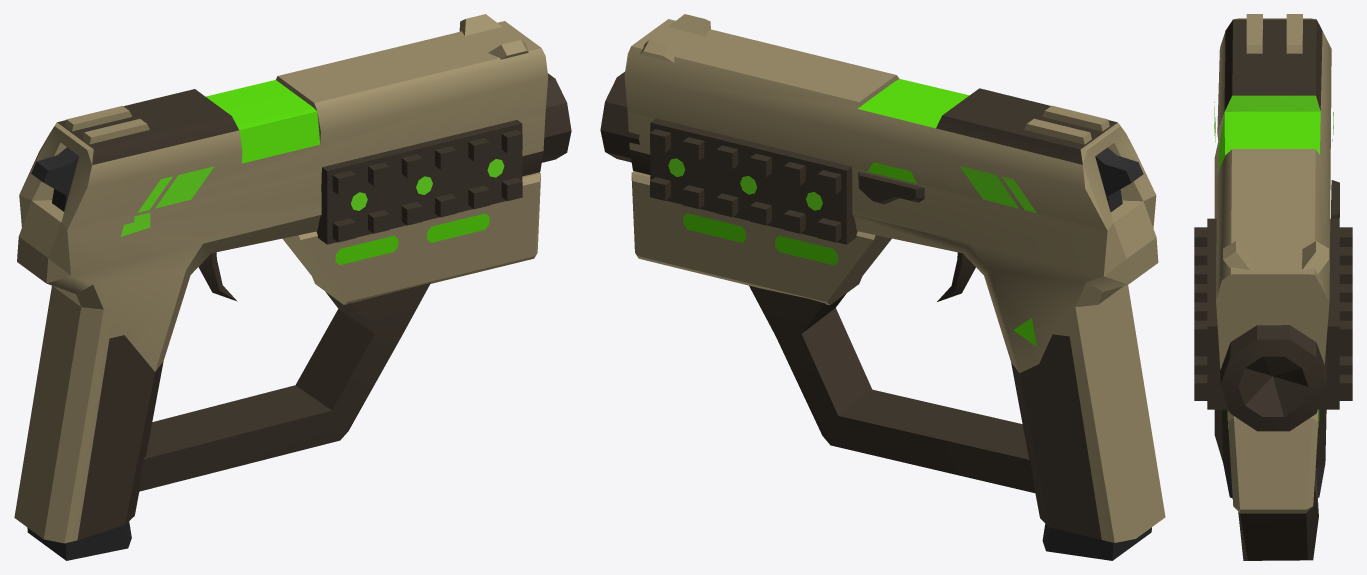
The model's file is Weapon6.fbx.
3 views of the same model, side by side, from view 1: azimuth 30°, elevation 25°; view 2: azimuth 150°, elevation 25°; view 3: azimuth 270°, elevation 25° (orthographic). The views are drawn at different scales.
Visible parts, largest first — view 1: weapon6; view 2: weapon6; view 3: weapon6.
Part boxes in pixels (<box>): weapon6: <box>14,14,571,560</box>; weapon6: <box>600,14,1165,560</box>; weapon6: <box>1194,14,1352,560</box>.
Size of the model in its own units: 0.2228 by 0.1679 by 0.0515.
